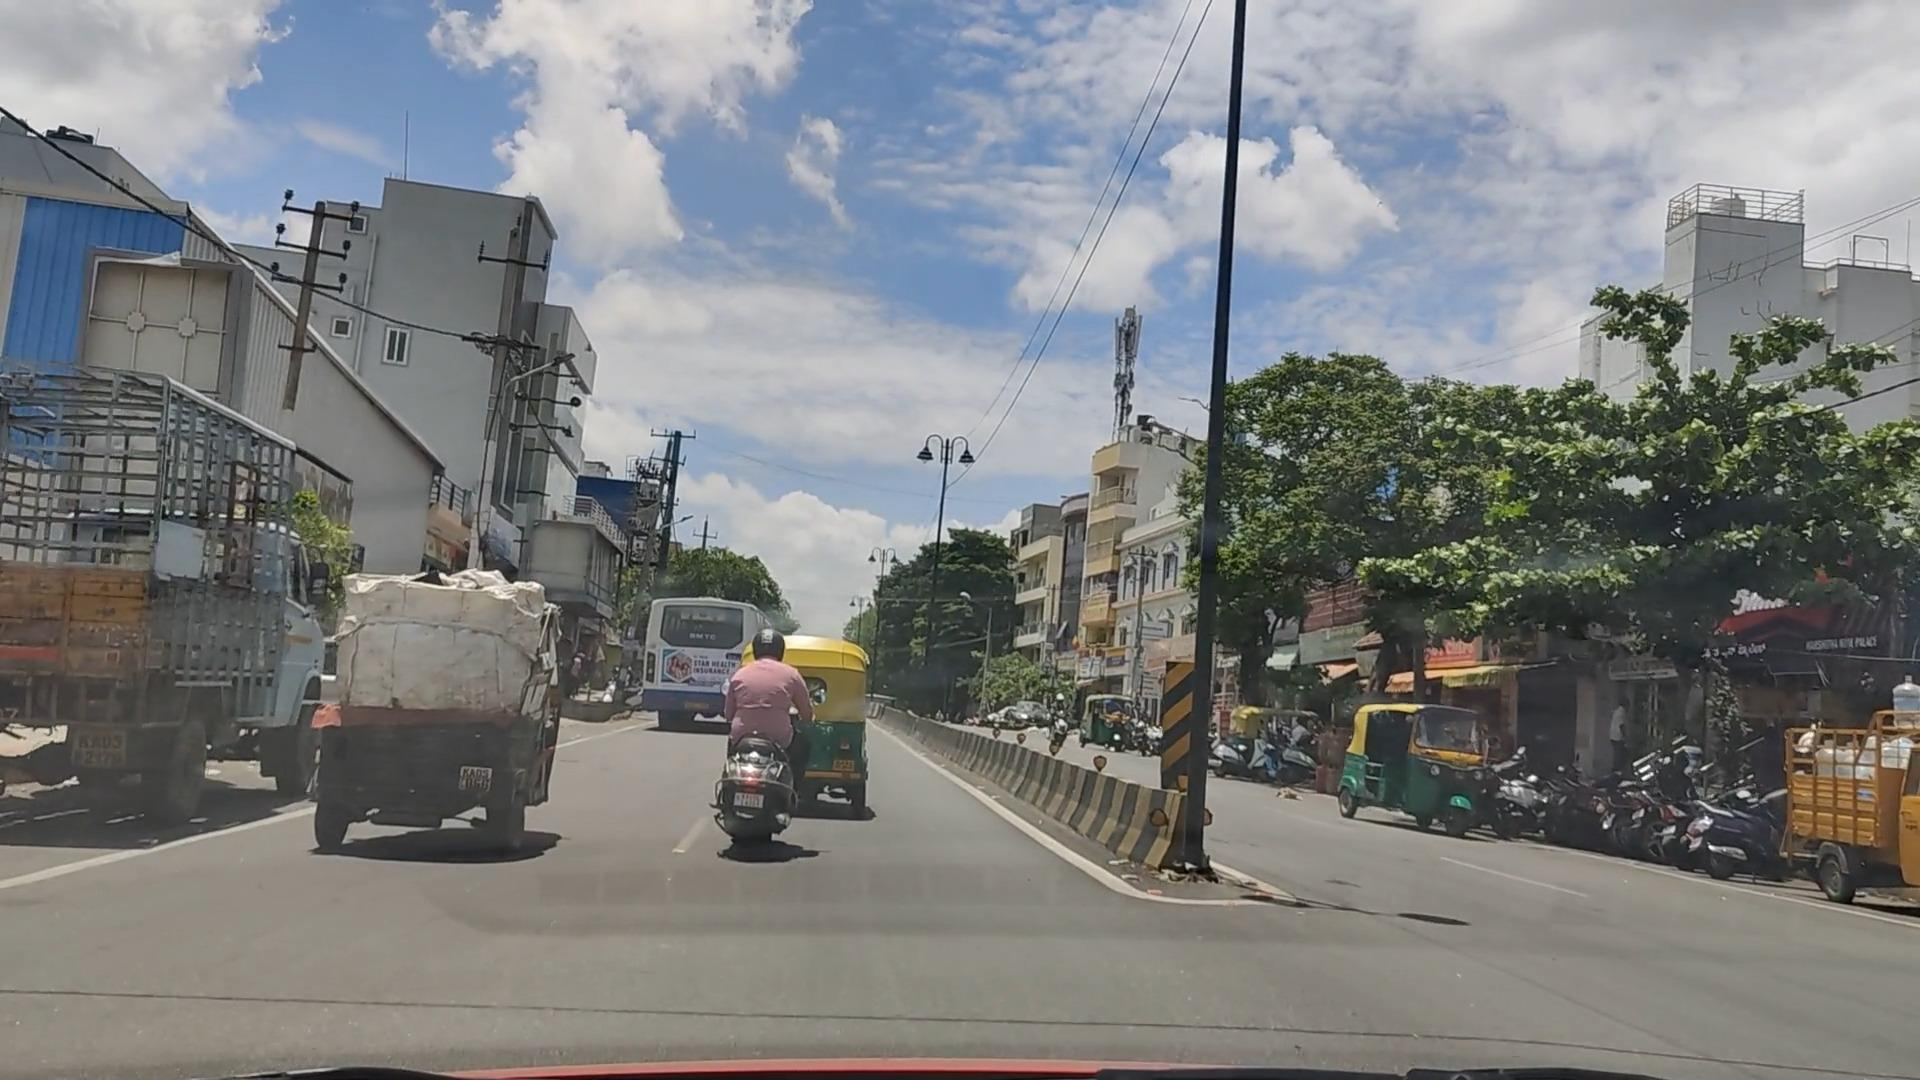HMV: (16, 382, 334, 827), (666, 591, 736, 719)
LMV: (345, 575, 570, 868), (757, 641, 898, 804), (723, 638, 806, 858)
